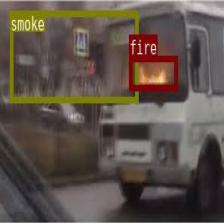fire: (129, 55, 177, 90)
smoke: (9, 9, 138, 102)
